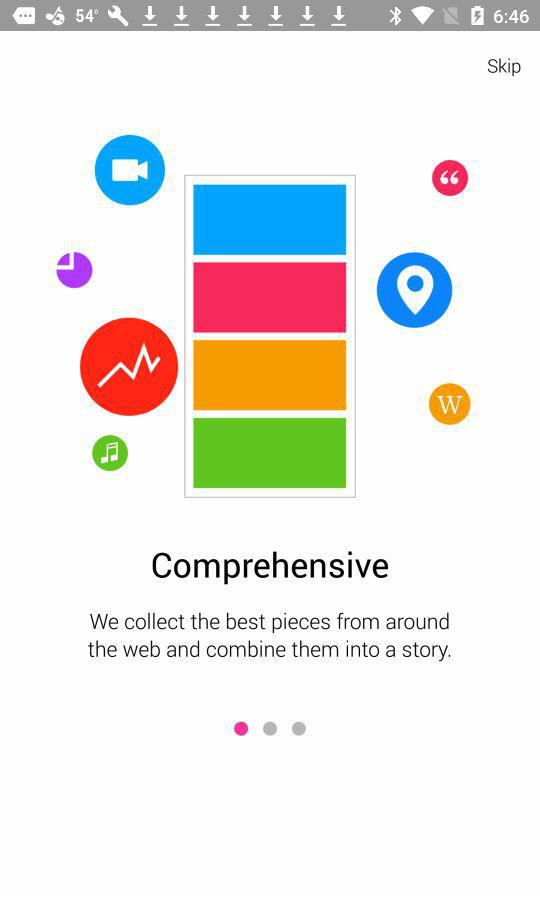Image: (55, 134, 468, 498)
PageIndicator: (233, 720, 307, 737)
Text: (88, 611, 452, 662), (152, 550, 390, 586), (487, 57, 522, 78)
UpperTaskBar: (1, 1, 540, 33)
